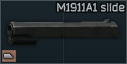M1911A1 .45 ACP pistol slide: (0, 0, 127, 64)
